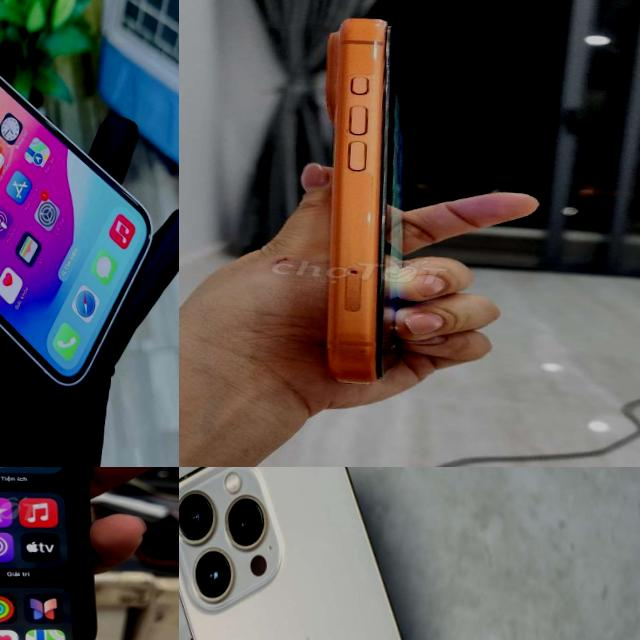gen_12_13: (0, 0, 169, 393), (179, 467, 497, 640)
gen_17: (272, 2, 459, 396)
gen_x_xs: (0, 467, 133, 640)
physical_damage: (371, 16, 392, 34)
scratch: (354, 203, 385, 233)
